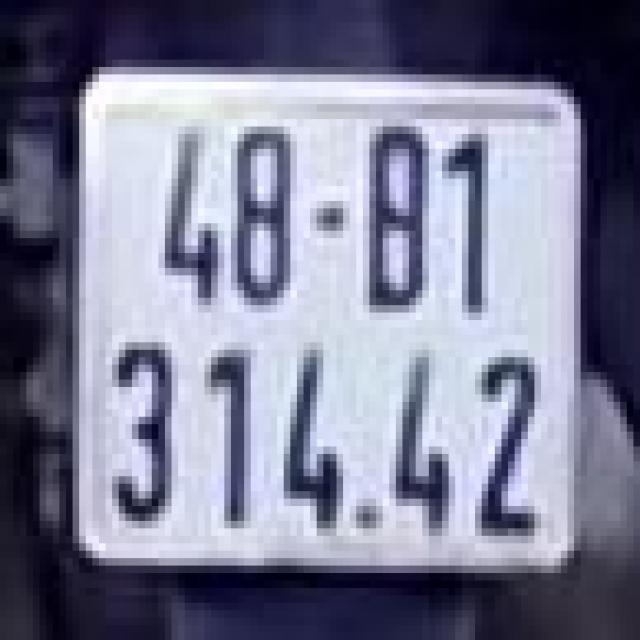1: (439, 123, 498, 324), (201, 339, 254, 532)
2: (468, 346, 541, 532)
3: (106, 331, 178, 525)
4: (376, 338, 455, 540), (277, 331, 343, 532), (158, 123, 224, 309)
8: (231, 123, 297, 316)
B: (360, 119, 432, 313)
